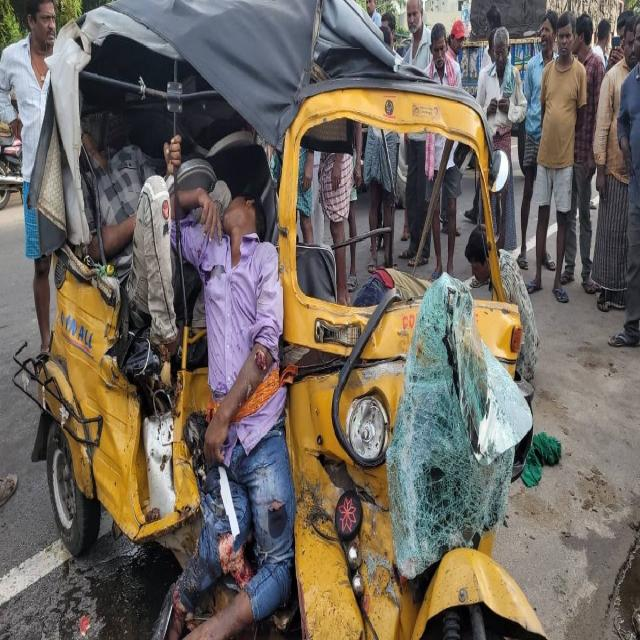accident: (14, 0, 544, 639)
